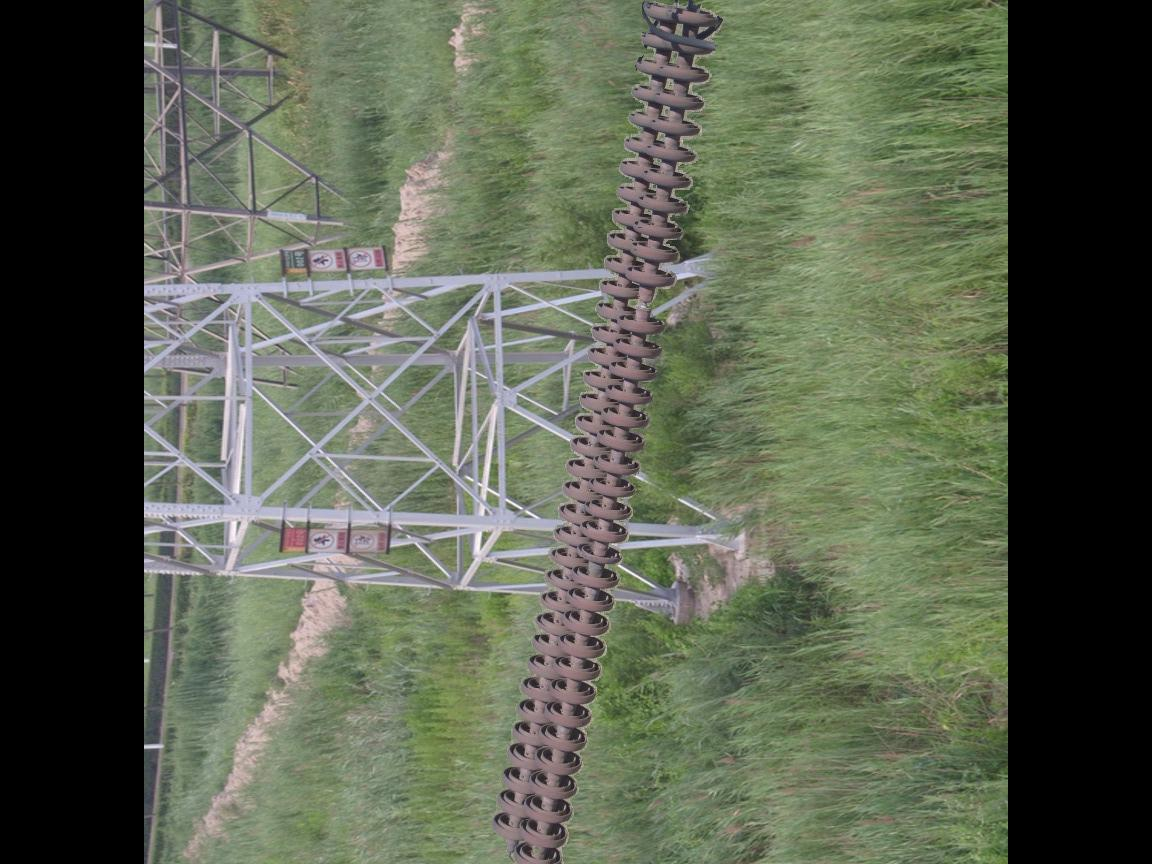insulator: (488, 1, 727, 864)
insulator_stringdrop: (612, 265, 680, 339)
